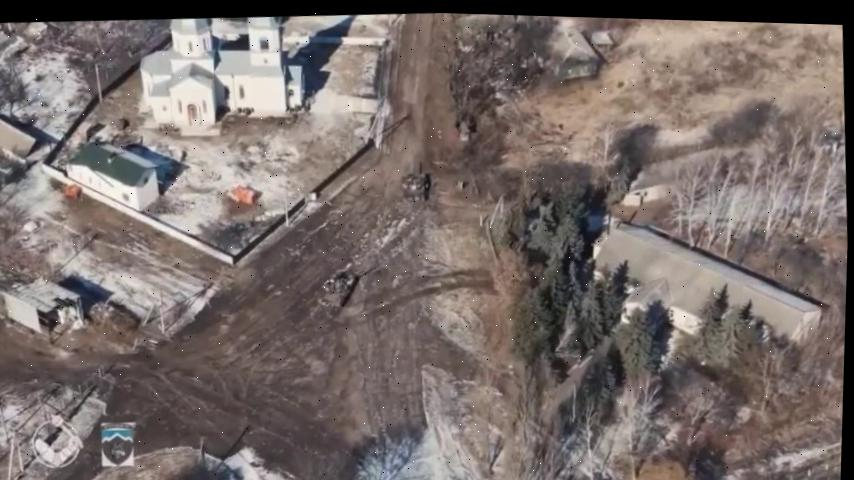tank: (312, 262, 378, 311), (395, 147, 428, 201)
